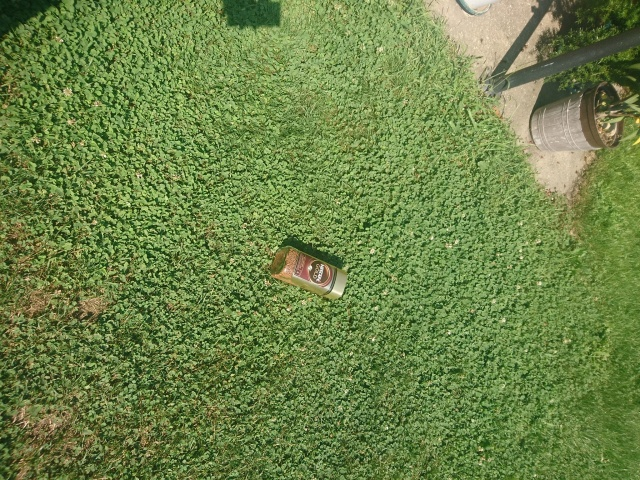Nescafe Gold 225g: (266, 243, 351, 301)
